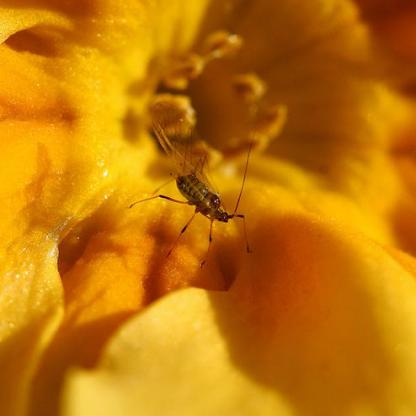aphid: (136, 139, 255, 270)
